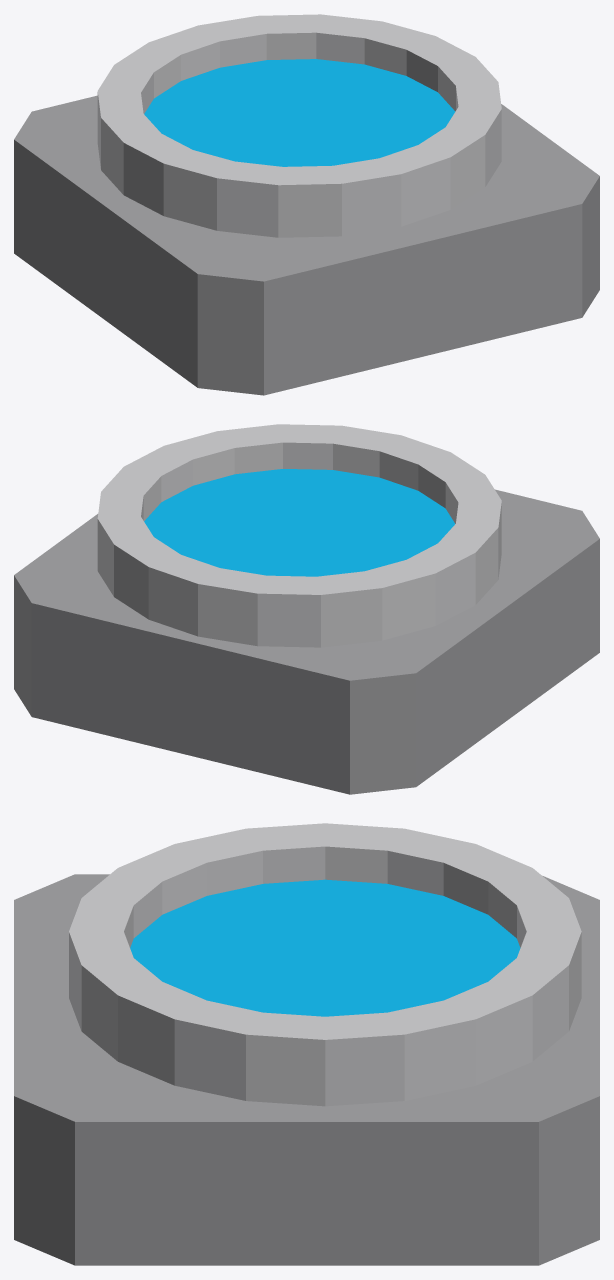
Rendered from vge_gravjumper_engine.obj.
3 renders of one model, top to bottom at view 1: azimuth 30°, elevation 25°; view 2: azimuth 150°, elevation 25°; view 3: azimuth 270°, elevation 25°, orthographic. The views are drawn at different scales.
Visible parts, largest first — view 1: vge_gravjumper_engine_0, vge_gravjumper_engine_1, vge_gravjumper_engine_2; view 2: vge_gravjumper_engine_0, vge_gravjumper_engine_1, vge_gravjumper_engine_2; view 3: vge_gravjumper_engine_0, vge_gravjumper_engine_1, vge_gravjumper_engine_2.
Part boxes in pixels (left/top/right/bottom): vge_gravjumper_engine_0: left=14, top=95, right=599, bottom=395; vge_gravjumper_engine_1: left=97, top=14, right=501, bottom=237; vge_gravjumper_engine_2: left=144, top=59, right=455, bottom=166; vge_gravjumper_engine_0: left=14, top=489, right=599, bottom=794; vge_gravjumper_engine_1: left=97, top=424, right=501, bottom=647; vge_gravjumper_engine_2: left=144, top=469, right=454, bottom=576; vge_gravjumper_engine_0: left=14, top=874, right=599, bottom=1265; vge_gravjumper_engine_1: left=69, top=823, right=581, bottom=1106; vge_gravjumper_engine_2: left=130, top=879, right=520, bottom=1016.
Size of the model in its own units: 0.96 by 0.38 by 0.96.
